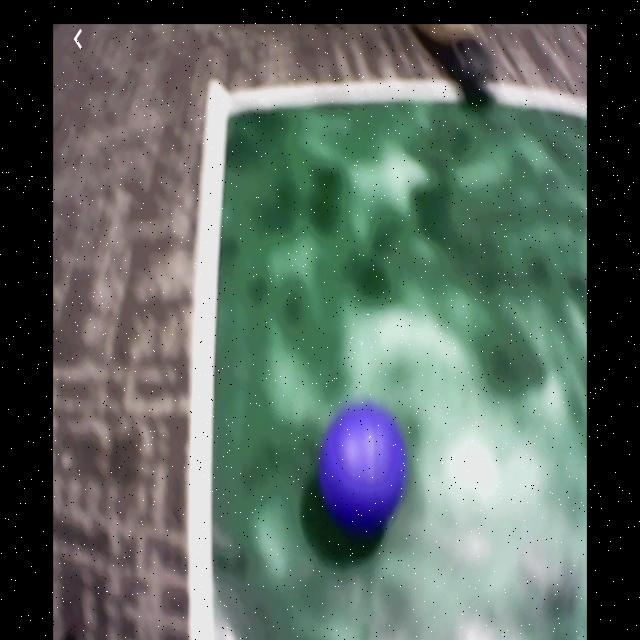ball: (318, 405, 407, 529)
